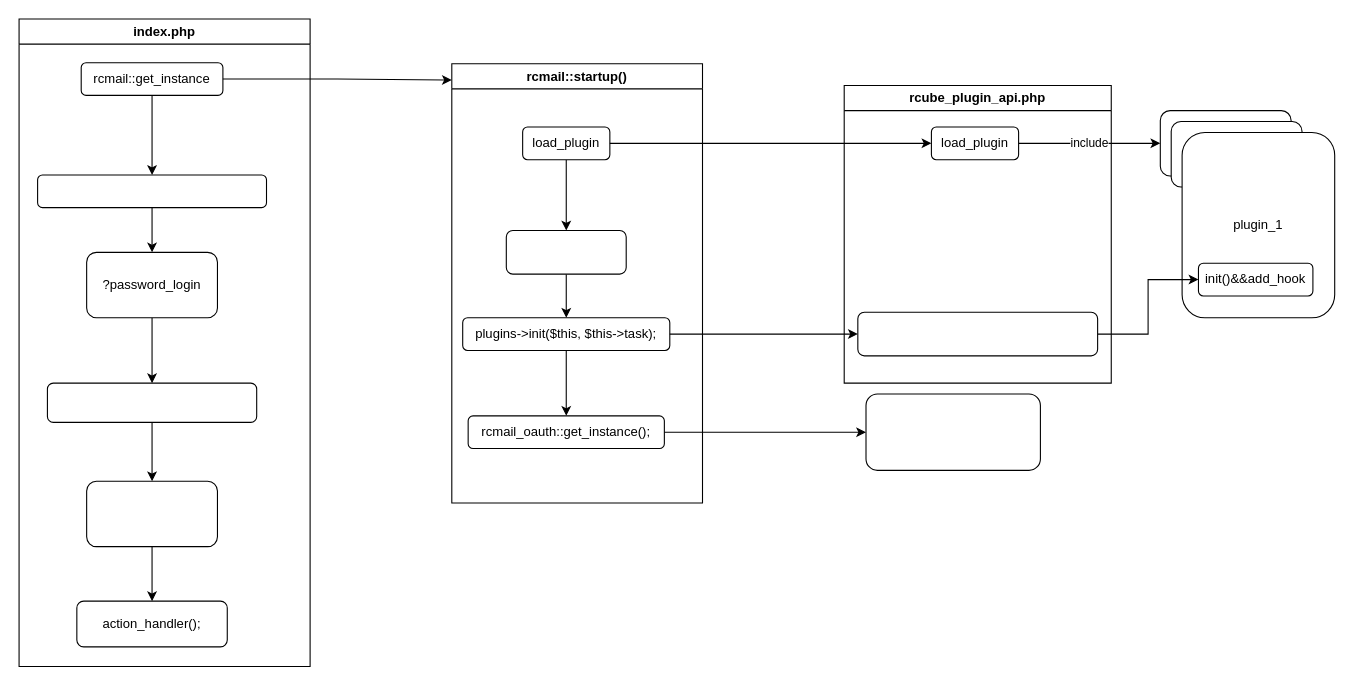
The diagram is 1354 pixels wide and 686 high, and some of its shapes have lost their labels. The shapes that lost their labels are listed below. From the top down, each one's centre as x and y in pixels, then its label:
[152,191]: plugins->exec_hook('startup',['','']);
[565,251]: get_input_string _task&&_action
[977,333]: register_hook('template_container',[]); $plugin->init();
[151,402]: ?rcmail_action_login_oauth-run()
[952,431]: rcmail_oauth(config_option); register_hook(xxx);
[151,513]: CSRF check
